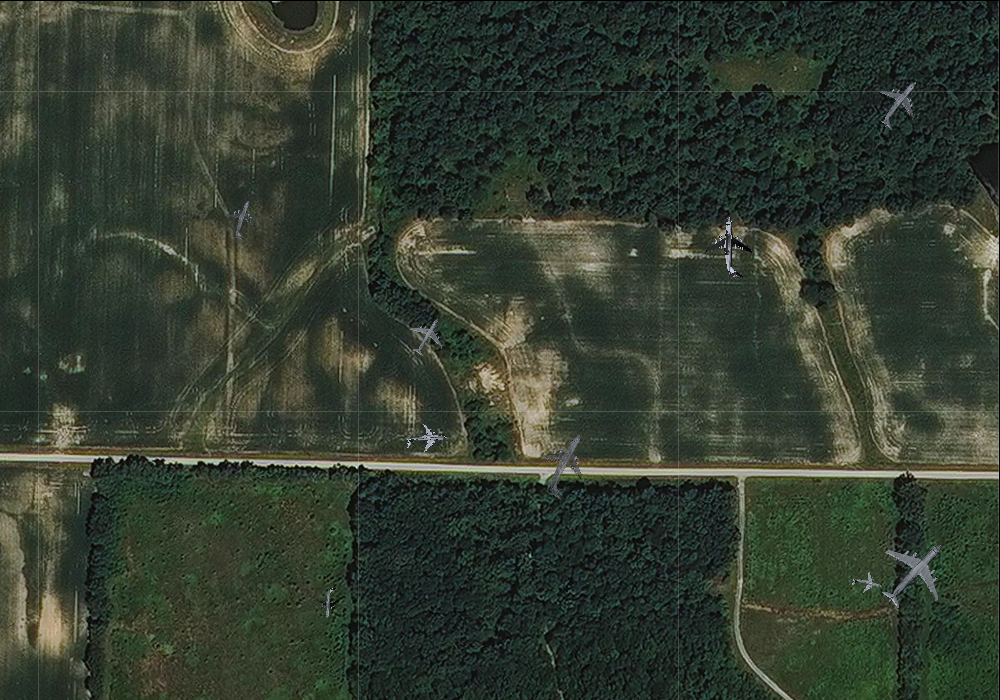plane: (862, 520, 968, 626), (524, 422, 608, 510), (864, 67, 936, 140), (703, 216, 760, 279), (400, 309, 453, 363), (218, 194, 267, 245), (405, 422, 447, 457), (849, 567, 885, 601), (316, 586, 343, 618)
